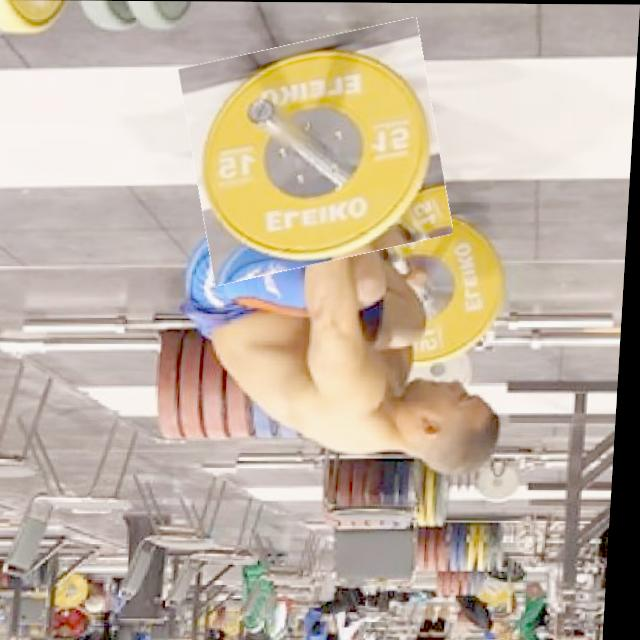barbell: (181, 28, 456, 276)
